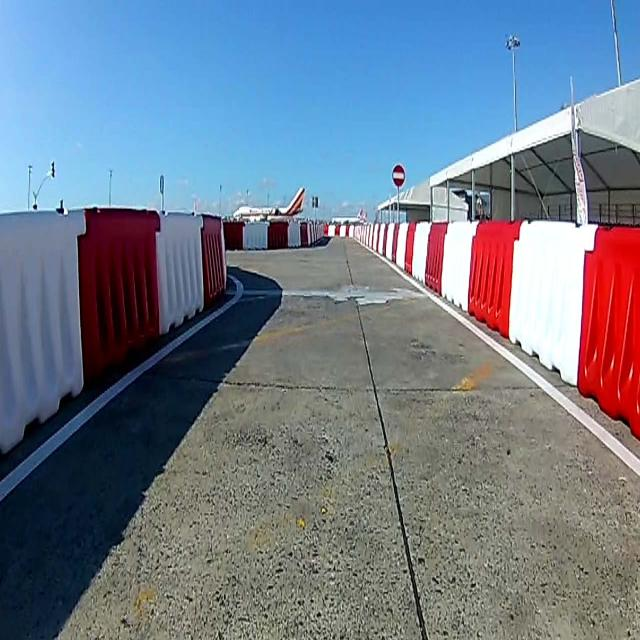girisyok: (392, 160, 406, 188)
